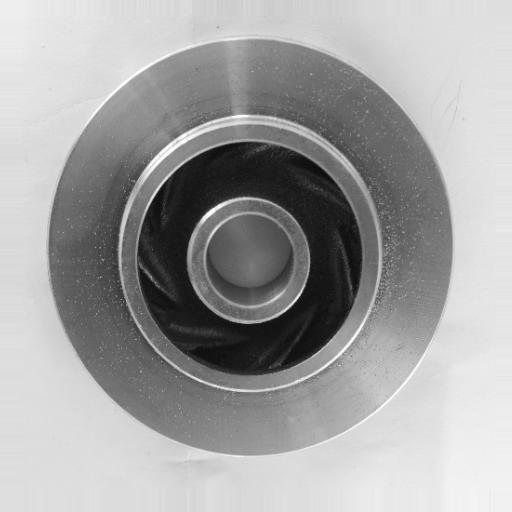polished_casting: (48, 36, 452, 461)
